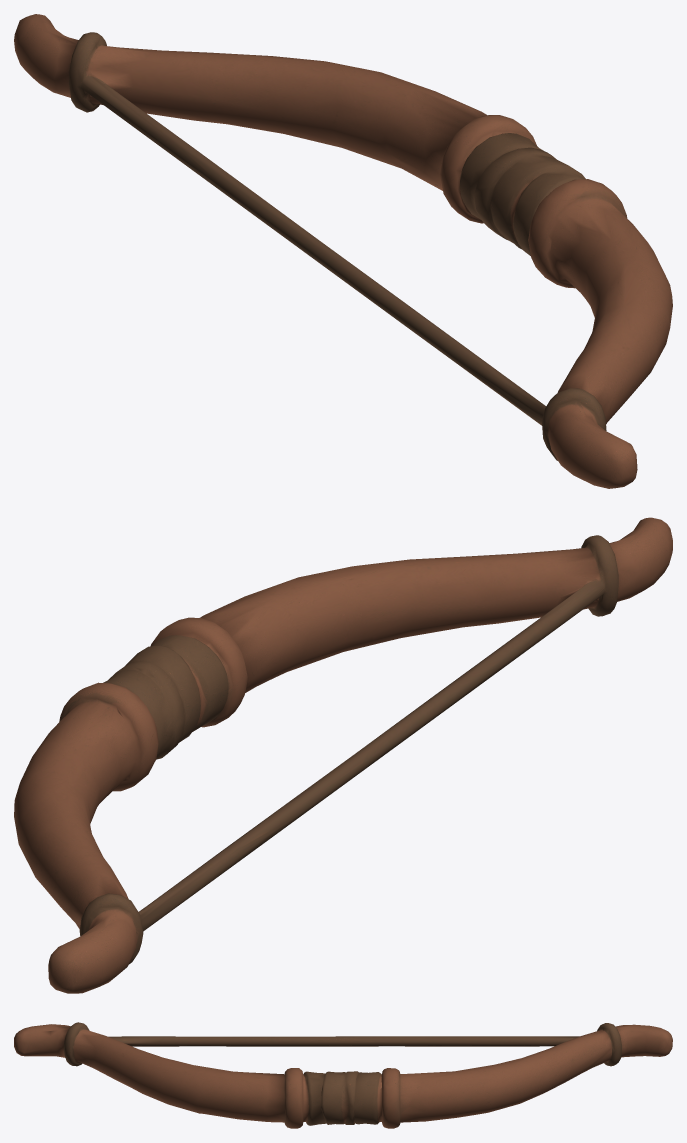
The model's file is ElyraBow.glb.
3 renders of one model, top to bottom at view 1: azimuth 30°, elevation 25°; view 2: azimuth 150°, elevation 25°; view 3: azimuth 270°, elevation 25°, orthographic. The views are drawn at different scales.
Visible parts, largest first — view 1: ElyraBow; view 2: ElyraBow; view 3: ElyraBow.
Part boxes in pixels (left/top/right/bottom): ElyraBow: left=14, top=14, right=672, bottom=488; ElyraBow: left=14, top=517, right=672, bottom=993; ElyraBow: left=14, top=1022, right=672, bottom=1128.
Size of the model in its own units: 0.7624 by 0.2612 by 2.8.
1 material, 1 textured.
